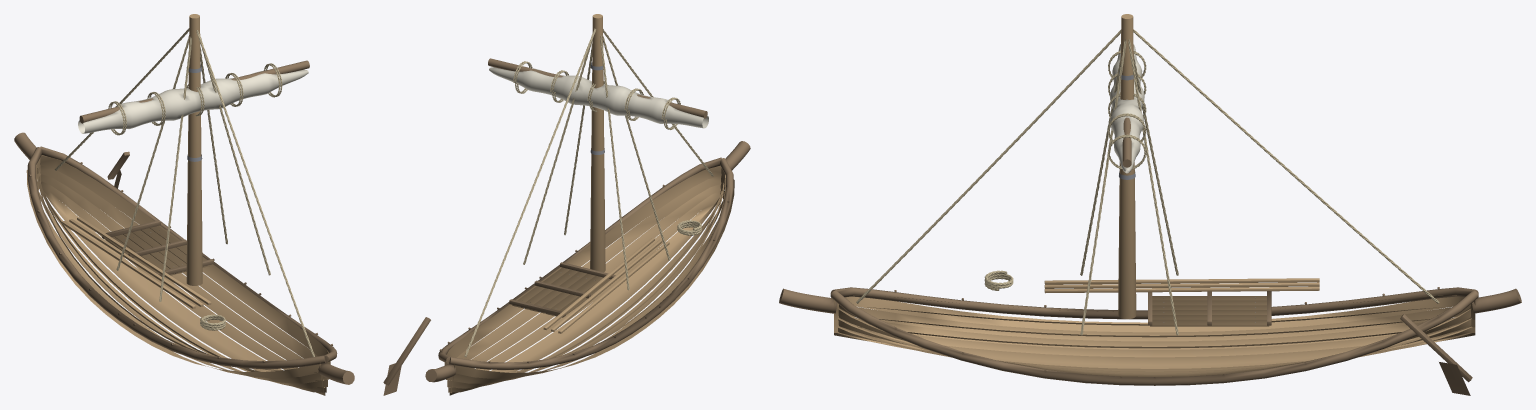
The model's file is boat_supply.glb.
3 views of the same model, side by side, from view 1: azimuth 30°, elevation 25°; view 2: azimuth 150°, elevation 25°; view 3: azimuth 270°, elevation 25° (orthographic). The views are drawn at different scales.
Visible parts, largest first — view 1: boat_supply; view 2: boat_supply; view 3: boat_supply.
Boxes of the visible parts, x1,y1,x2,y2 form: boat_supply: (14, 14, 354, 395); boat_supply: (383, 14, 750, 395); boat_supply: (779, 14, 1521, 395).
Bounding box in the file's own units: 6.4 × 8.41 × 16.22.
